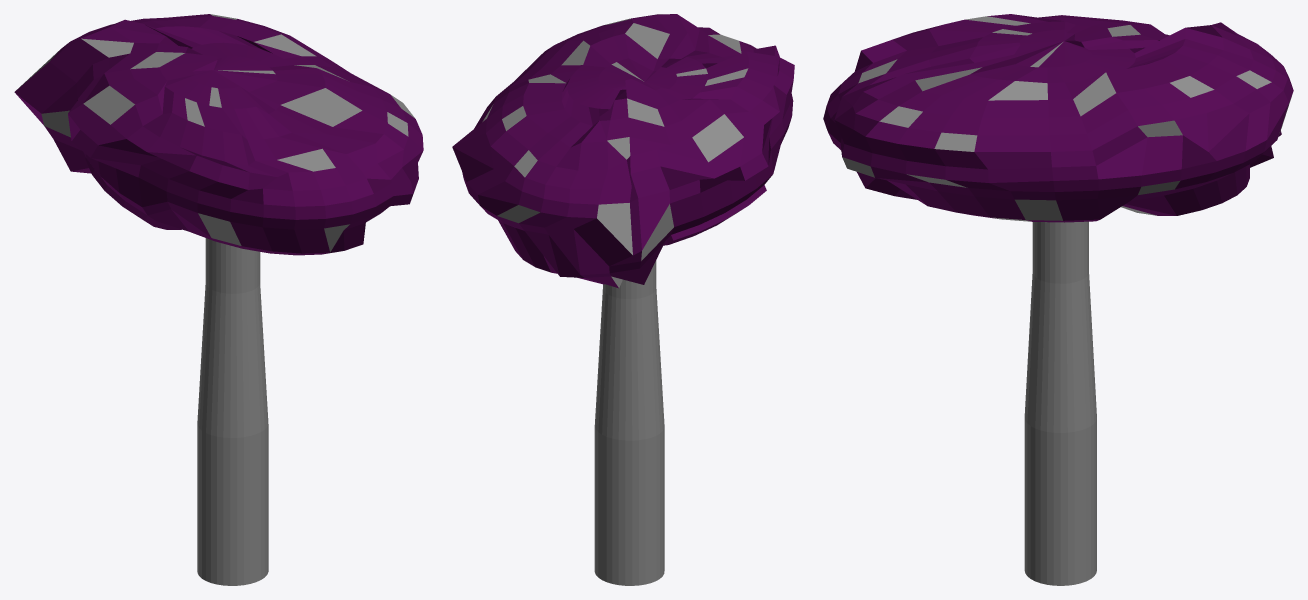
File: houba.fbx
The picture shows the model from 3 angles, left to right: view 1: azimuth 30°, elevation 25°; view 2: azimuth 150°, elevation 25°; view 3: azimuth 270°, elevation 25°; orthographic projection. The views are drawn at different scales.
Parts seen in each view (by area): view 1: Sphere, Cylinder; view 2: Sphere, Cylinder; view 3: Sphere, Cylinder.
Boxes of the visible parts, x1,y1,x2,y2 form: Sphere: [14, 14, 423, 255]; Cylinder: [197, 238, 268, 585]; Sphere: [452, 14, 794, 288]; Cylinder: [594, 260, 664, 585]; Sphere: [823, 14, 1293, 222]; Cylinder: [1024, 221, 1096, 585].
Bounding box in the file's own units: 1163 × 2063 × 1668.
